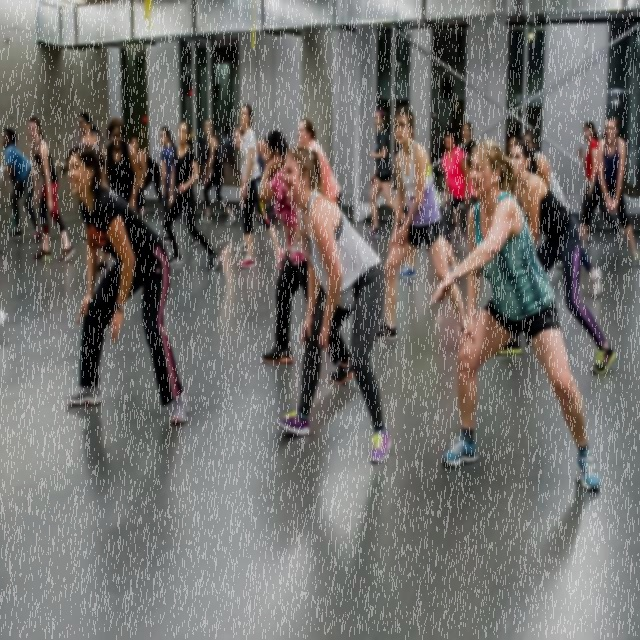pessoa: (430, 138, 602, 494), (60, 138, 191, 430), (276, 146, 393, 462), (495, 136, 617, 377), (258, 128, 356, 386), (373, 105, 468, 343), (522, 131, 604, 298), (160, 116, 224, 276), (392, 124, 456, 284), (578, 113, 640, 272), (238, 103, 286, 274), (26, 113, 76, 266), (575, 116, 630, 246), (364, 108, 406, 242), (157, 124, 201, 249), (1, 126, 44, 243), (295, 117, 344, 210), (199, 118, 238, 228), (441, 122, 474, 252), (99, 116, 140, 212), (74, 110, 100, 246), (130, 134, 164, 222), (232, 125, 249, 255), (499, 132, 527, 196), (456, 119, 478, 169), (249, 125, 268, 169)
